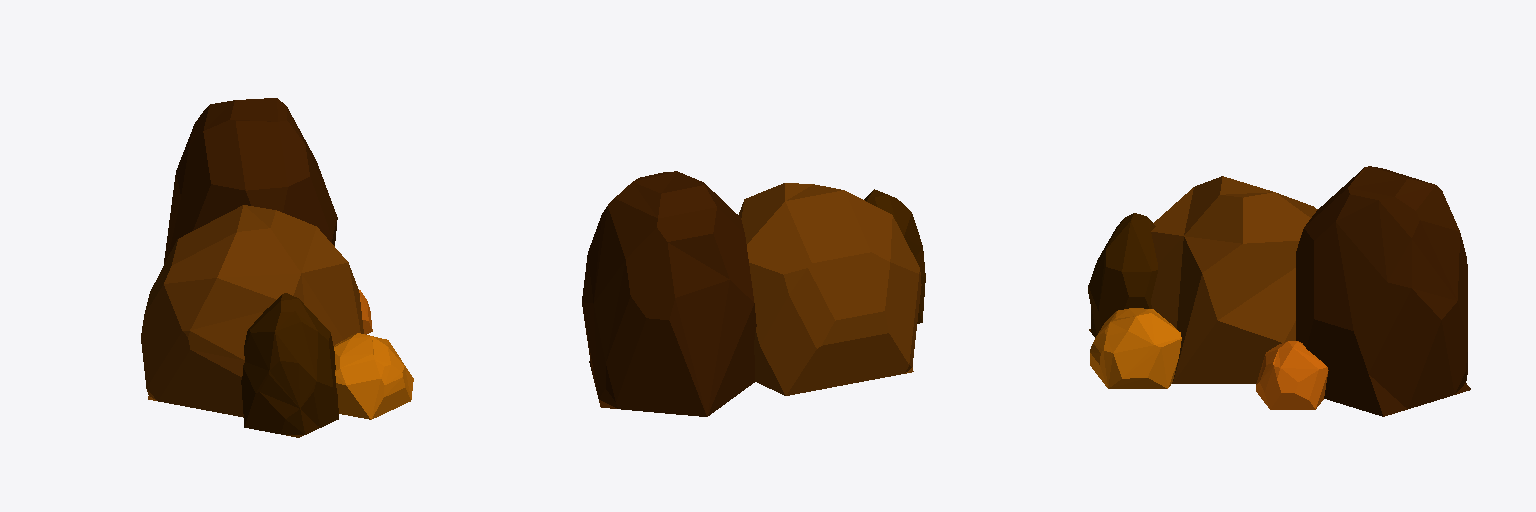
The model's file is big_rock.obj.
The picture shows the model from 3 angles: view 1: azimuth 30°, elevation 25°; view 2: azimuth 150°, elevation 25°; view 3: azimuth 270°, elevation 25°; orthographic projection.
Visible parts, largest first — view 1: Icosphere, Icosphere.003, Icosphere.001, Icosphere.004; view 2: Icosphere.003, Icosphere, Icosphere.001; view 3: Icosphere.003, Icosphere, Icosphere.004, Icosphere.001, Icosphere.002.
Boxes of the visible parts, <box> form: Icosphere: <box>141,205,363,417</box>; Icosphere.003: <box>164,98,337,263</box>; Icosphere.001: <box>241,293,338,437</box>; Icosphere.004: <box>334,333,413,419</box>; Icosphere.003: <box>582,171,756,416</box>; Icosphere: <box>739,183,921,395</box>; Icosphere.001: <box>864,189,925,323</box>; Icosphere.003: <box>1296,166,1470,416</box>; Icosphere: <box>1151,176,1317,383</box>; Icosphere.004: <box>1090,308,1181,388</box>; Icosphere.001: <box>1088,213,1157,337</box>; Icosphere.002: <box>1256,341,1328,409</box>.
Size of the model in its own units: 4.73 by 3.53 by 6.18.